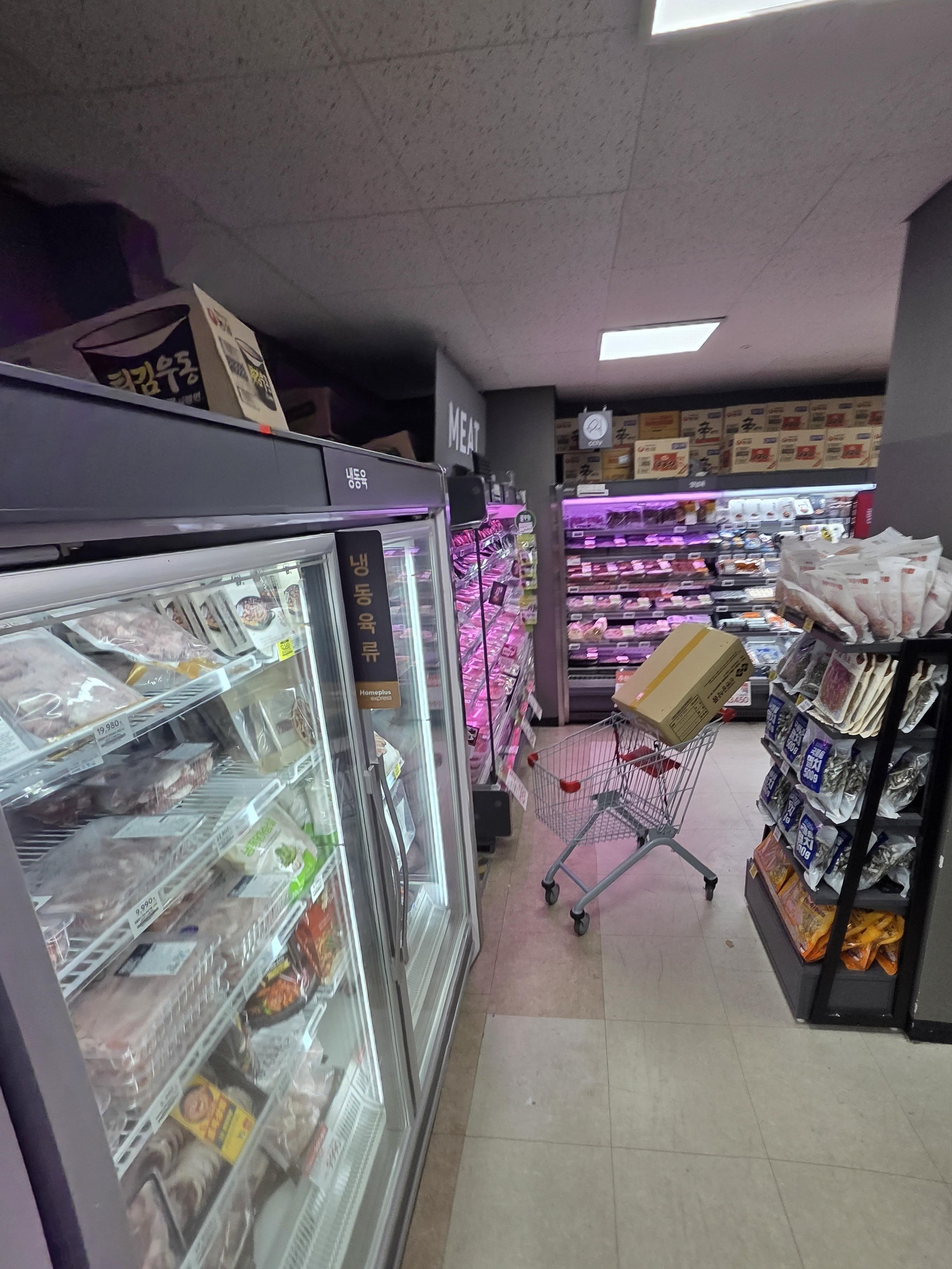fully_cart: (521, 614, 763, 944)
